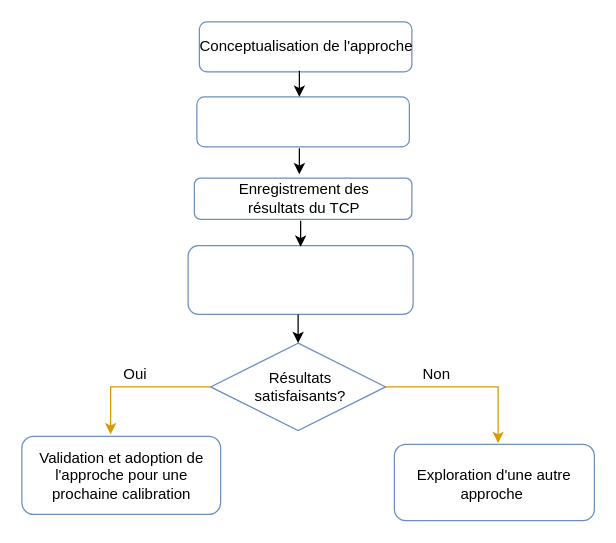
Image size: 616x543. Some labels were removed from this diagram. Each missing label, with the box of its shape:
Comparaison des résultats avec celui obtenu par la méthode manuelle: (187, 244, 413, 314)
Mise en œuvre expérimentale en utilisant le capteur: (196, 96, 409, 147)
